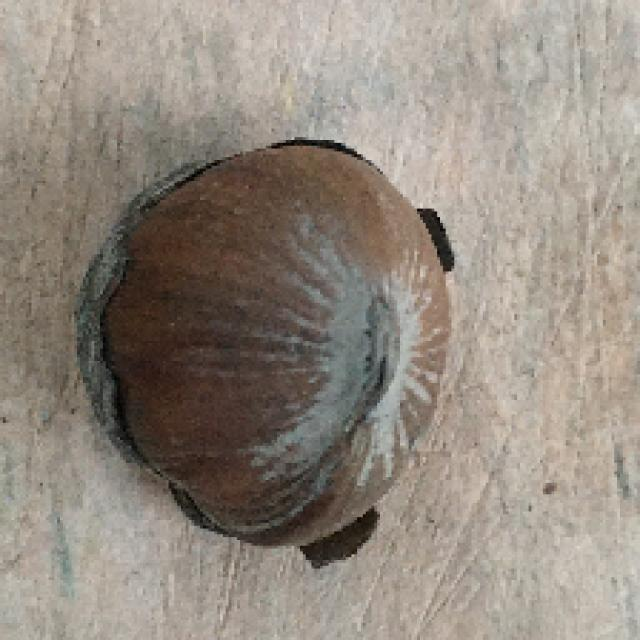damagedHazelnut: (70, 131, 457, 568)
